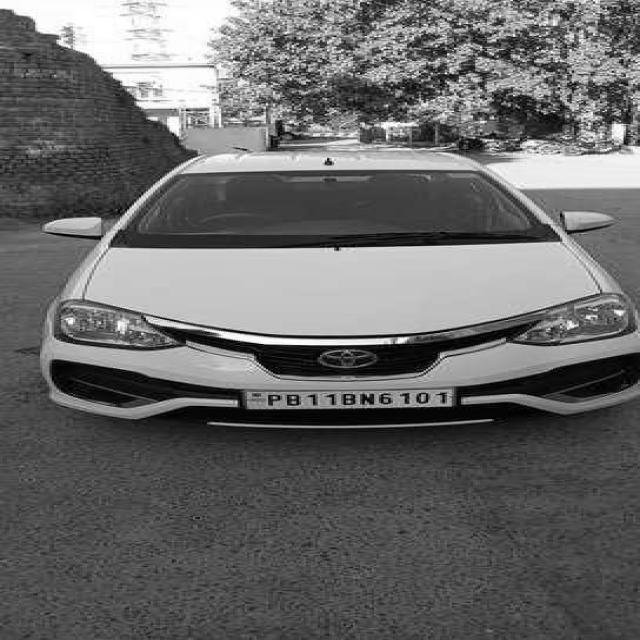car: (40, 148, 640, 429)
license-plate: (244, 388, 463, 410)
